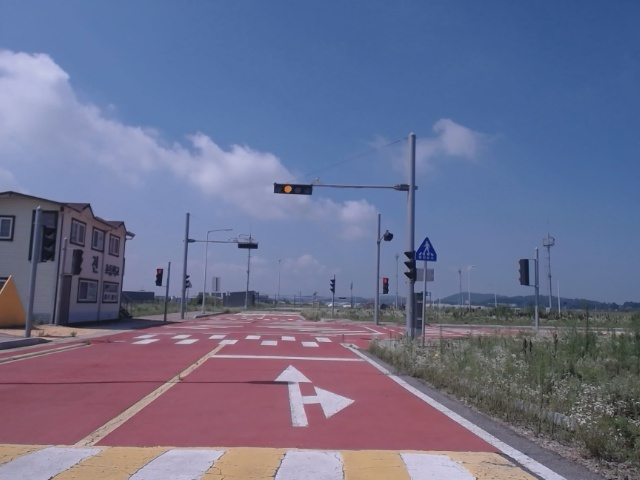orange_4: (273, 183, 311, 195)
